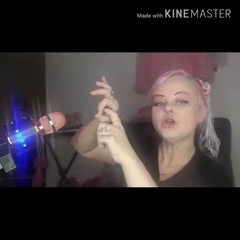Q: (85, 73, 133, 167)
